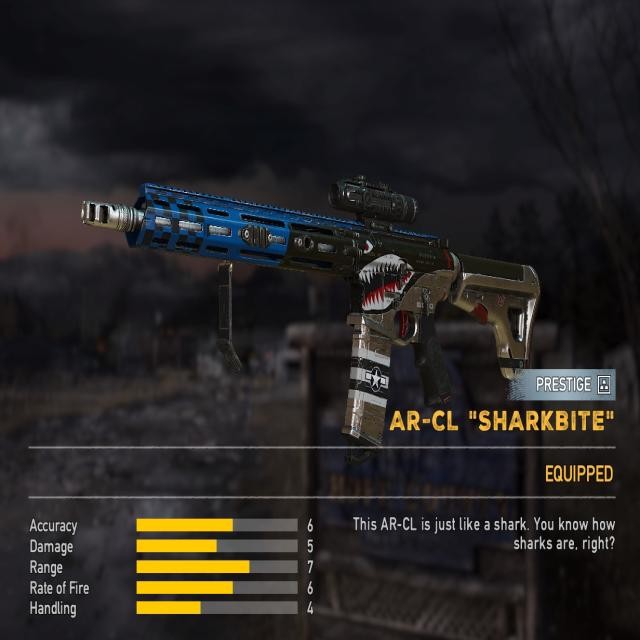Rifle: (80, 177, 541, 445)
